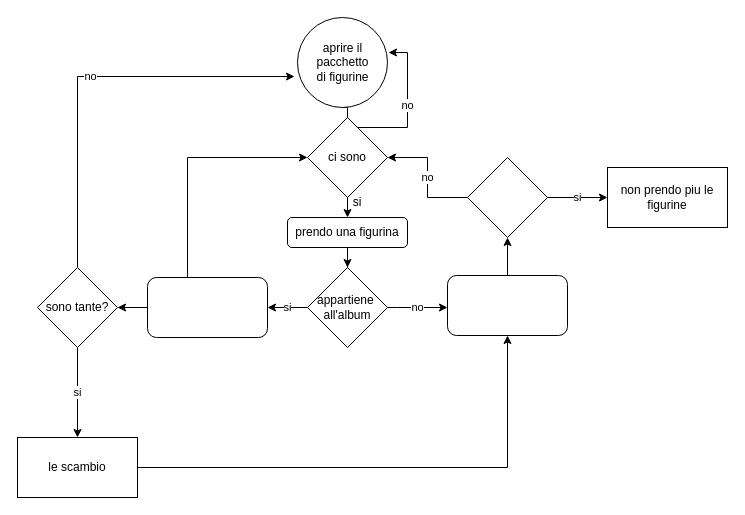
Some shapes in this 745 by 515 pixel diagram are drawn without their labels. Each missing label, with the centre of its shape:
aggiungere all'album: [507,305]
la metto tra i doppioni: [207,307]
se l'album e' pieno: [507,197]
